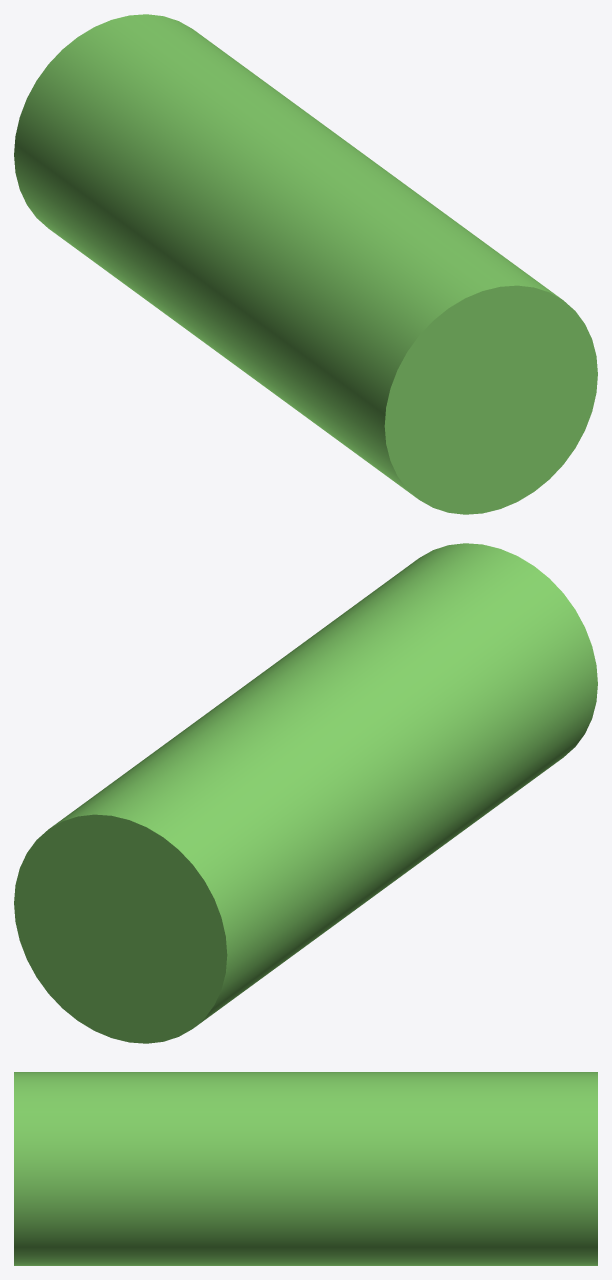
3 views of the same model, one above another, from view 1: azimuth 30°, elevation 25°; view 2: azimuth 150°, elevation 25°; view 3: azimuth 270°, elevation 25° (orthographic). The views are drawn at different scales.
Parts seen in each view (by area): view 1: pCylinder1; view 2: pCylinder1; view 3: pCylinder1.
Boxes of the visible parts, left/top/right/bottom form: pCylinder1: left=14, top=14, right=597, bottom=514; pCylinder1: left=14, top=543, right=597, bottom=1043; pCylinder1: left=14, top=1072, right=597, bottom=1265.
Bounding box in the file's own units: 0.3137 × 0.3127 × 0.9445.
